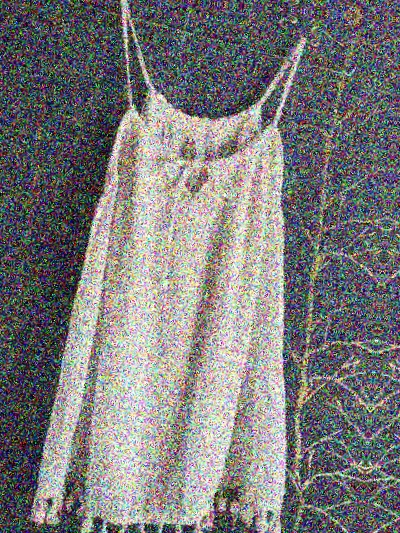Dress: (8, 11, 353, 533)
